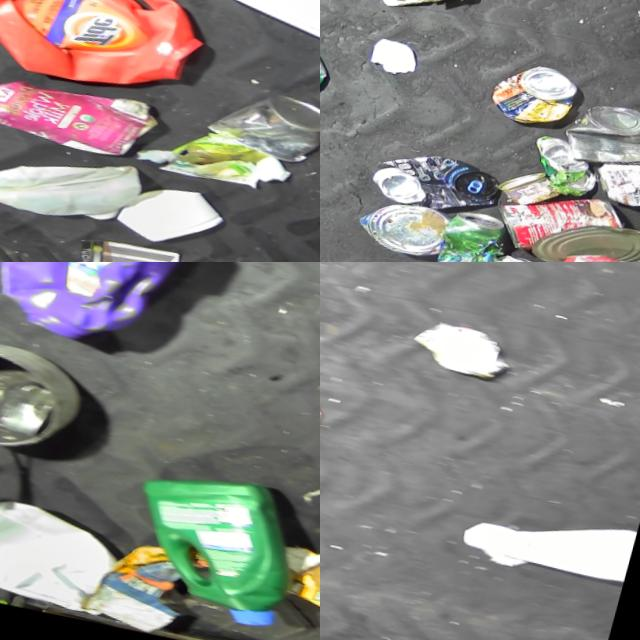can: (494, 179, 636, 262), (370, 143, 509, 222), (204, 79, 320, 166), (488, 58, 586, 132), (561, 96, 640, 179), (357, 195, 456, 261), (534, 210, 640, 262), (528, 134, 610, 198), (439, 204, 518, 262), (499, 163, 570, 212), (593, 146, 640, 216), (465, 246, 566, 262)
milk_jug: (0, 486, 136, 619), (0, 136, 162, 227)
non_white_jug: (116, 461, 320, 631), (0, 0, 229, 106), (0, 262, 212, 358)
